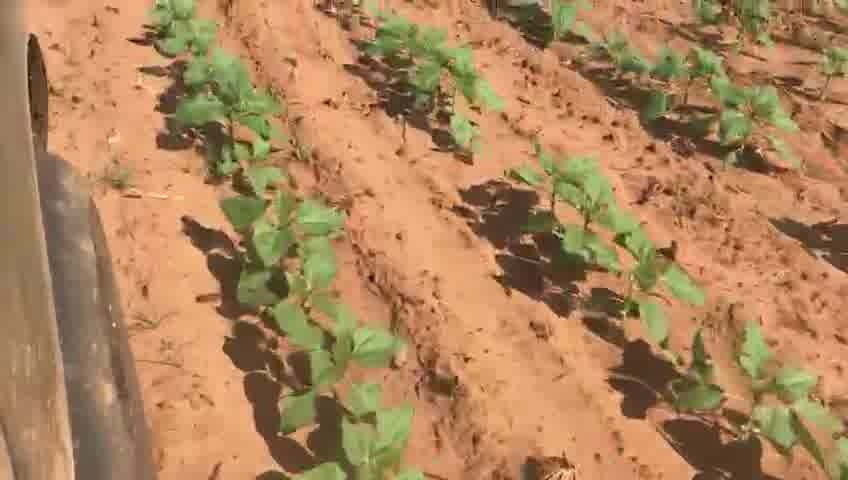sunflower: (672, 334, 823, 464), (558, 215, 702, 340), (214, 186, 348, 307), (266, 387, 432, 478), (250, 301, 397, 403), (178, 93, 288, 191), (510, 147, 611, 251), (709, 71, 802, 172), (430, 54, 506, 162), (358, 10, 444, 103), (639, 44, 720, 130), (155, 24, 247, 96), (592, 27, 647, 93), (537, 6, 581, 40)
